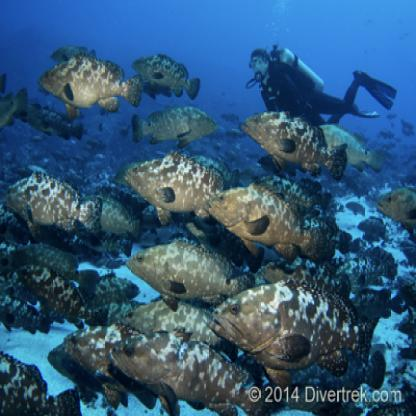Serranidae -Groupers-: (109, 324, 274, 414), (211, 294, 374, 376), (203, 179, 329, 272), (127, 237, 258, 313), (241, 101, 351, 184), (125, 151, 227, 228), (39, 50, 146, 123), (13, 262, 113, 338), (7, 169, 105, 246), (132, 104, 217, 151), (134, 47, 205, 90)
